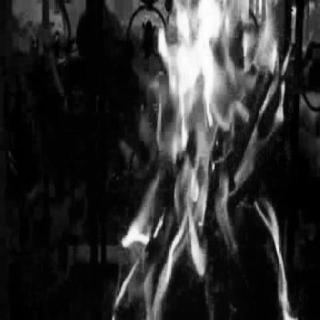Fire: (108, 4, 308, 317)
